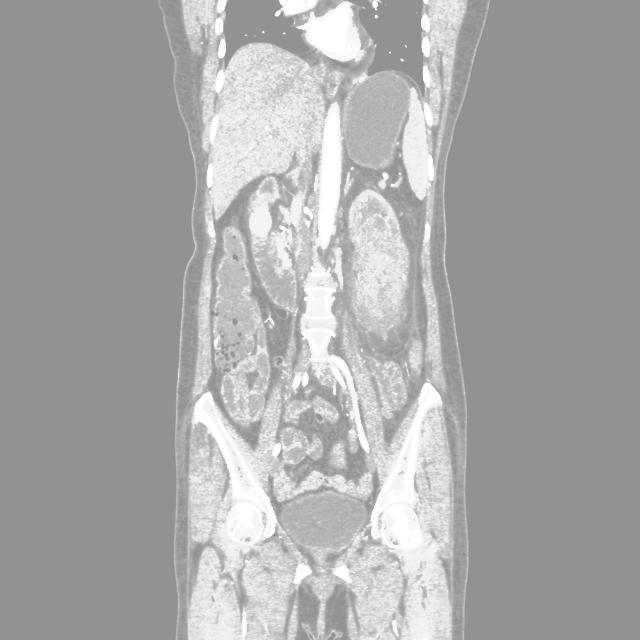TUMOR: (133, 220, 527, 566)
